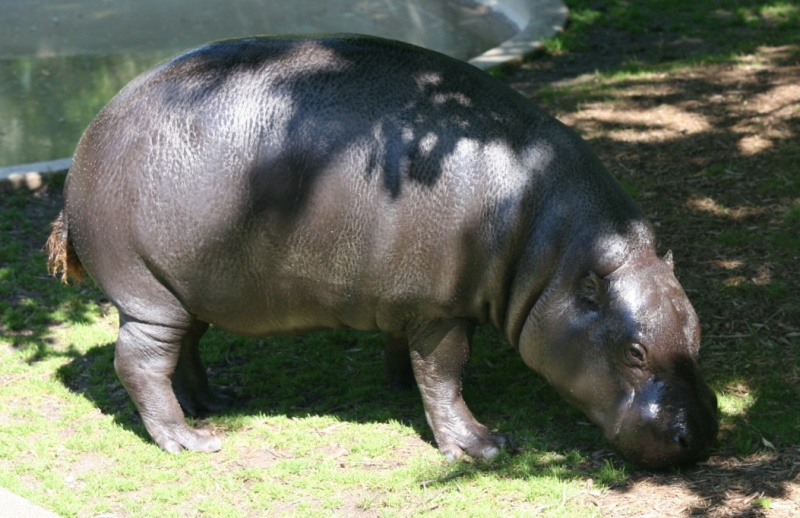hipopotamo: (47, 28, 727, 476)
